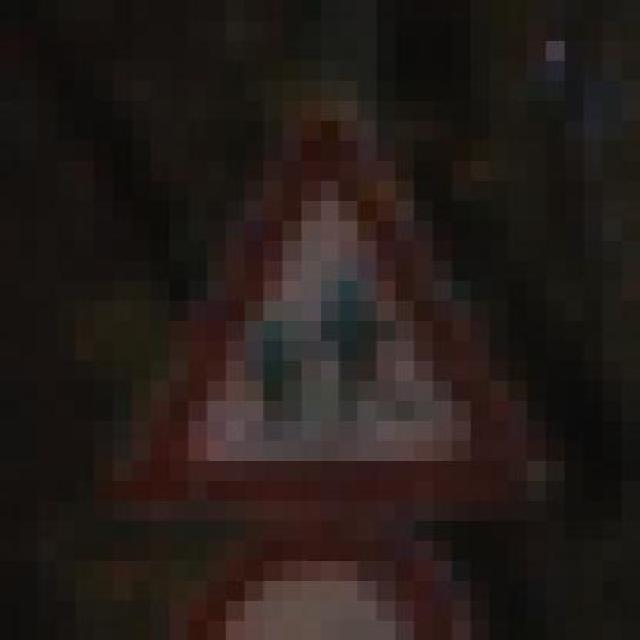Beware of children: (76, 80, 564, 540)
